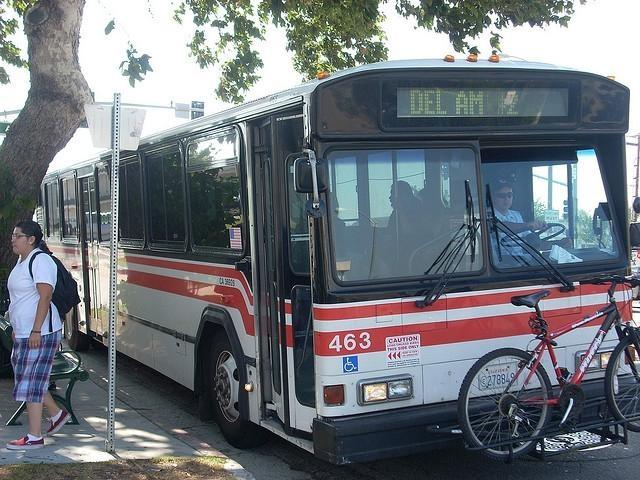bicycle: (454, 275, 640, 460)
bus: (34, 53, 628, 461)
